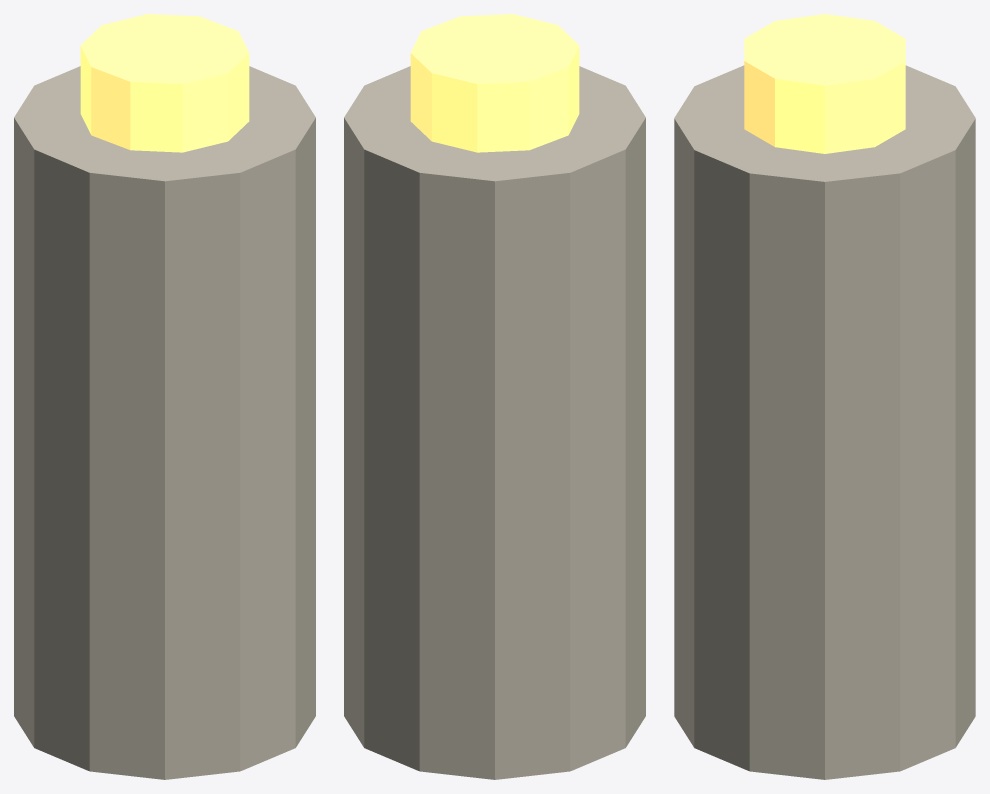
File: commons-table-candle.glb
The picture shows the model from 3 angles, left to right: view 1: azimuth 30°, elevation 25°; view 2: azimuth 150°, elevation 25°; view 3: azimuth 270°, elevation 25°; orthographic projection.
Parts seen in each view (by area): view 1: LGT_TableCandle.015, LGT_CandleGlow.015; view 2: LGT_TableCandle.015, LGT_CandleGlow.015; view 3: LGT_TableCandle.015, LGT_CandleGlow.015.
Boxes of the visible parts, box(x1,y1,x2,y2) form: LGT_TableCandle.015: box(14, 66, 315, 779); LGT_CandleGlow.015: box(80, 14, 249, 152); LGT_TableCandle.015: box(344, 66, 645, 779); LGT_CandleGlow.015: box(410, 14, 579, 152); LGT_TableCandle.015: box(674, 65, 975, 779); LGT_CandleGlow.015: box(744, 14, 905, 153).
Size of the model in its own units: 0.064 by 0.156 by 0.064.
